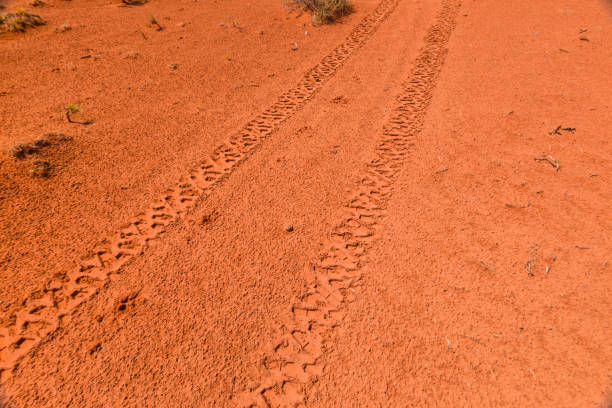vehicle_track: (0, 0, 399, 382), (233, 0, 459, 406)
